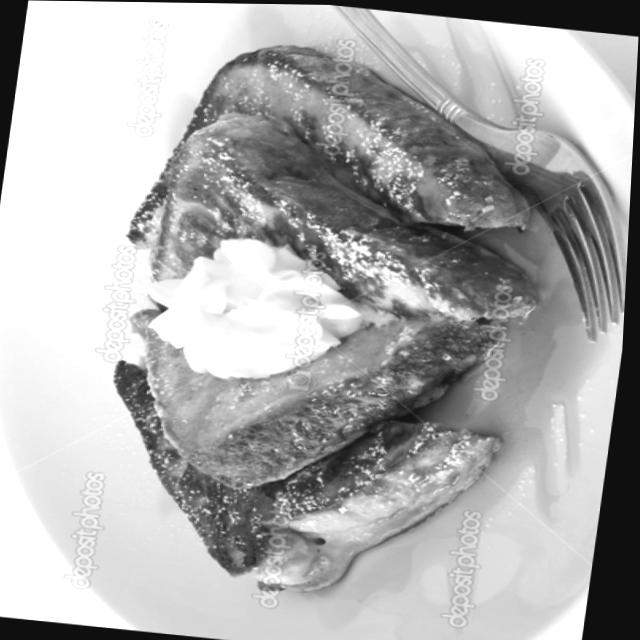面包点心: (23, 15, 623, 633)
